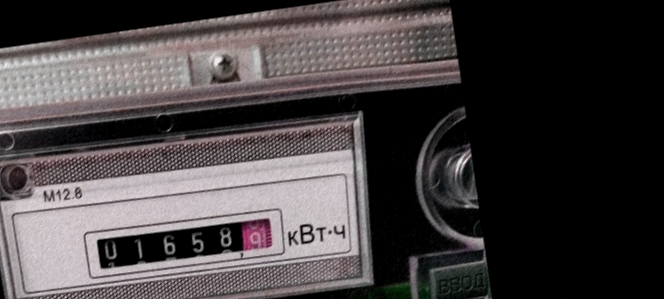0: (103, 237, 119, 261)
1: (133, 237, 146, 260)
5: (190, 229, 207, 254)
6: (161, 232, 178, 256)
8: (217, 224, 234, 248)
9: (246, 229, 263, 252)
screen: (77, 198, 295, 287)
